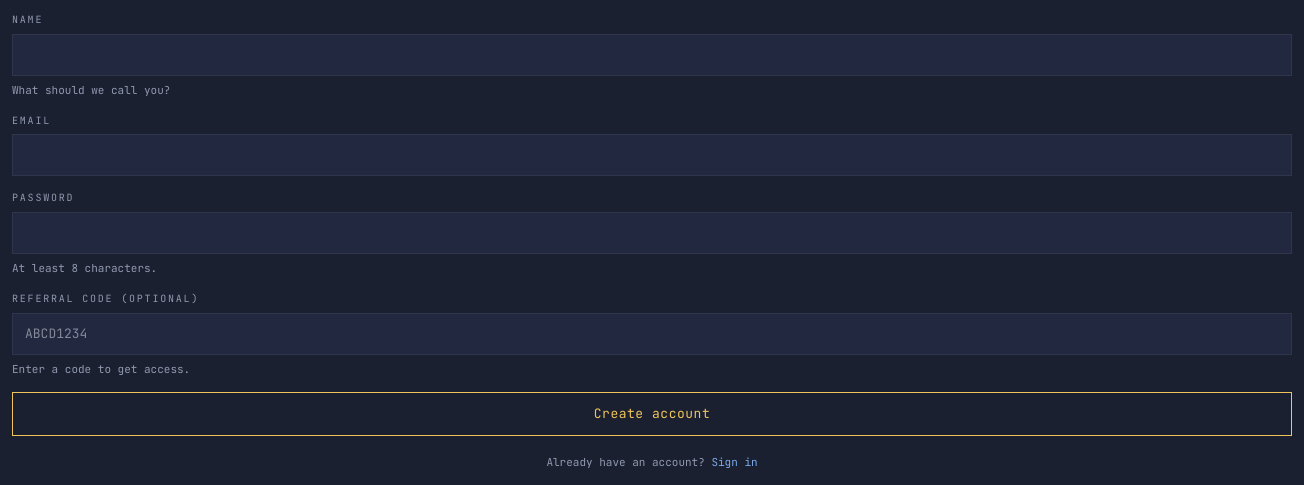
Test case: SignUpForm › referral code › blocks submit when the typed referral code is invalid format
This screenshot has width=1304, height=485.
Type "Ada Lovelace" into the field labelled "Name" at point(652, 55), box [12,34,1292,76]
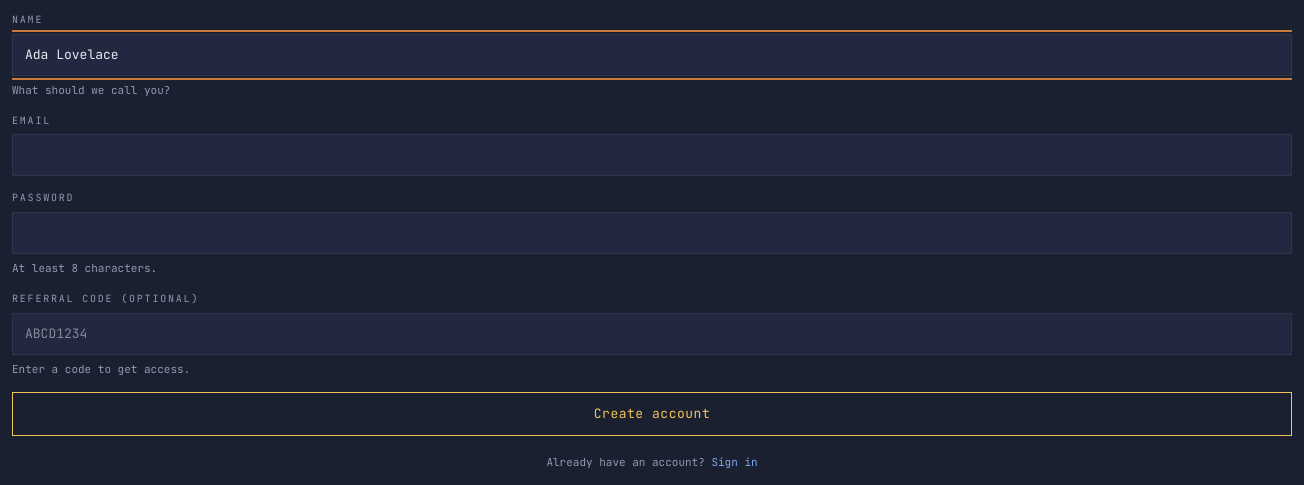
Type "a@b.c" into the field labelled "Email" at point(652, 155), box [12,134,1292,176]
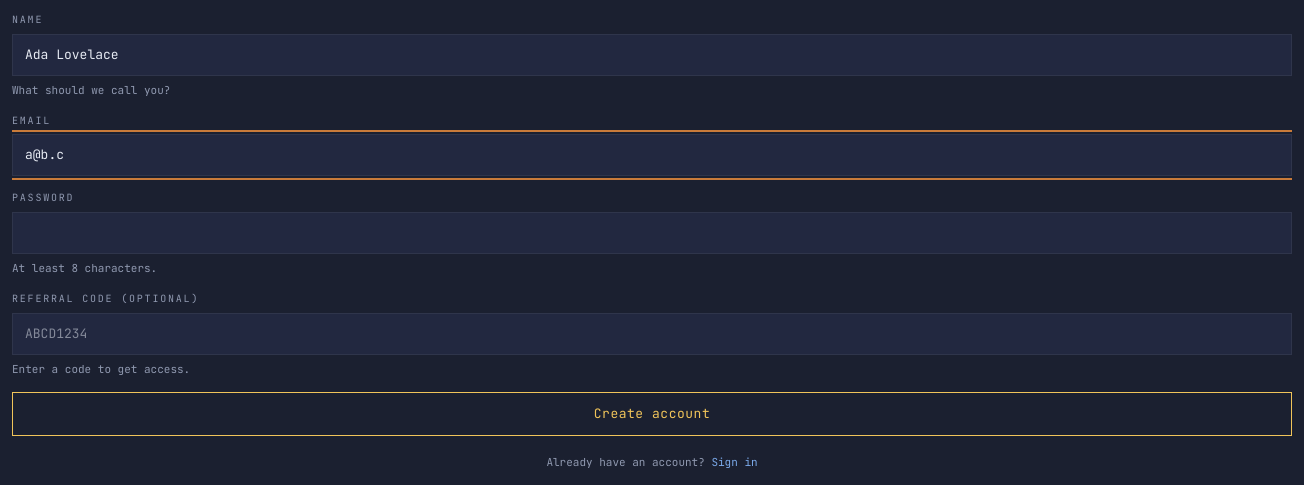
Type "longenough" into the password field labelled "Password" at point(652, 233), box [12,212,1292,254]
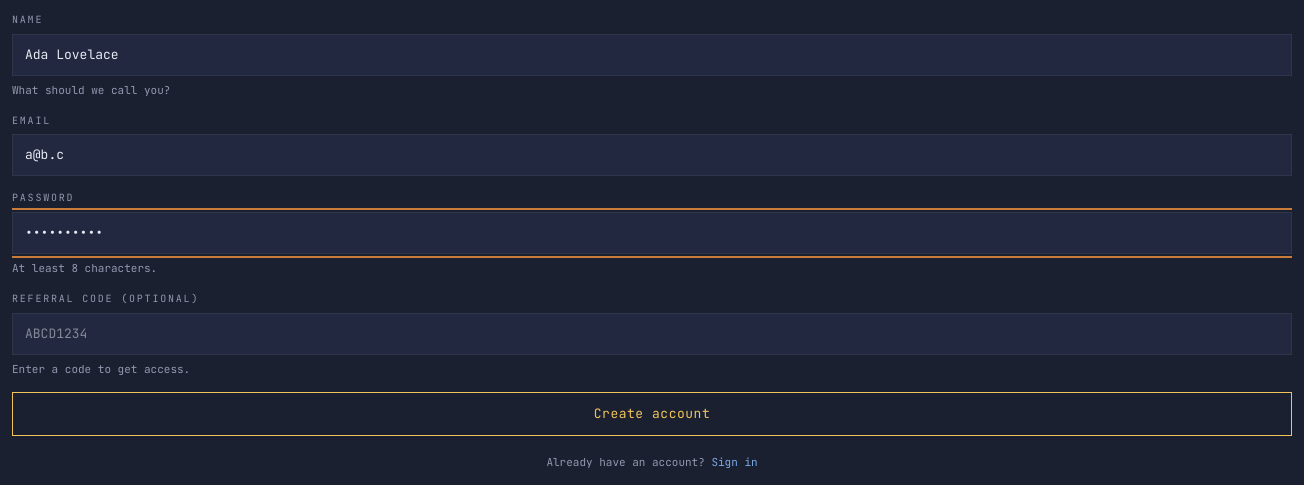
Type "abc" into the field labelled "Referral code (optional)" at point(652, 334), box [12,312,1292,355]
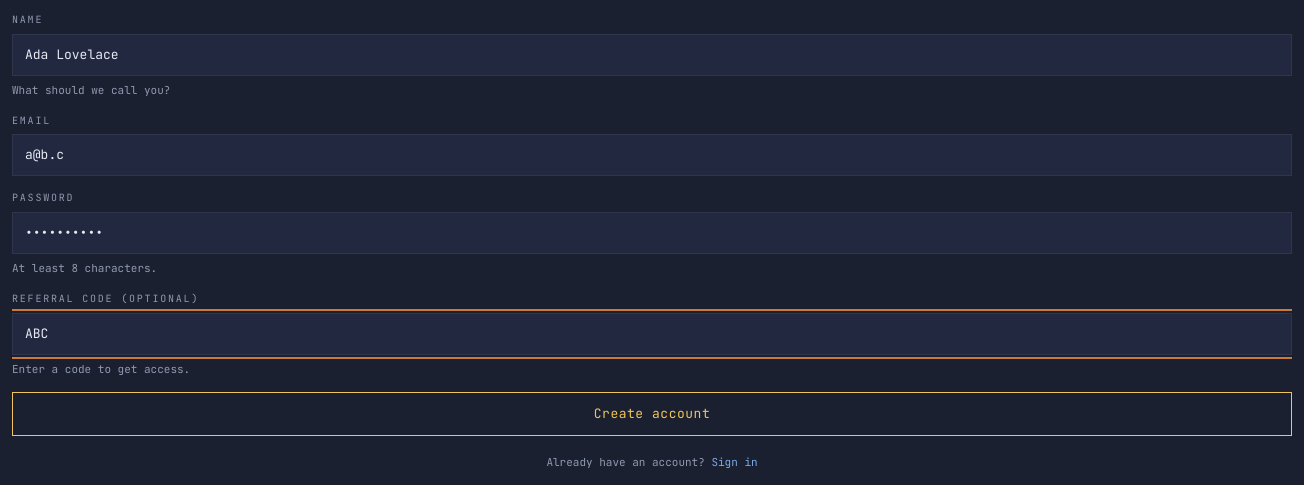
Click the button "Create account" at point(652, 414), box [12,392,1292,436]
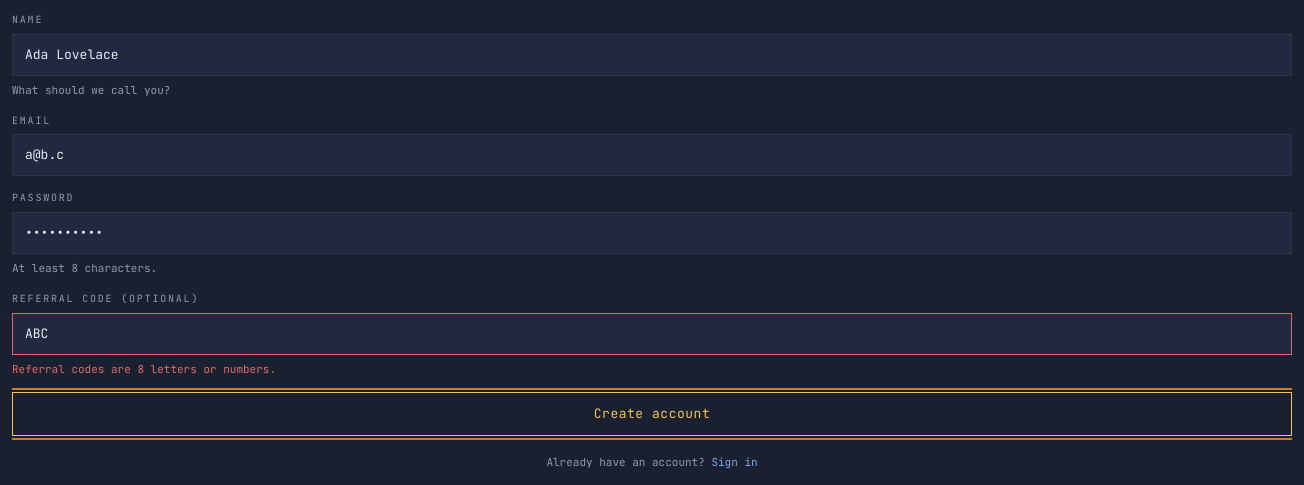
Check: the text "Referral codes are 8 letters or numbers." is shown, box [12,362,276,376]
